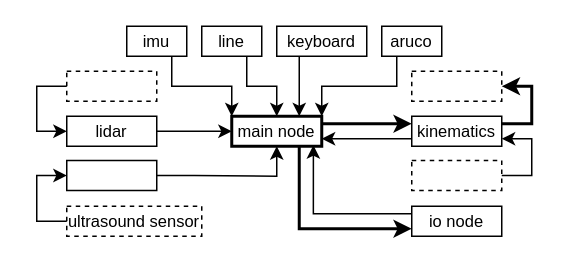
This 572x269 diagram has some shape labels left out. The shapes that lost their labels are listed below. From the top down, each one's centre as x and y in pixels, then its label:
At [111,85]: "lidar sensor".
At [456,85]: "motors".
At [111,174]: "ultrasound".
At [456,174]: "encoders".
